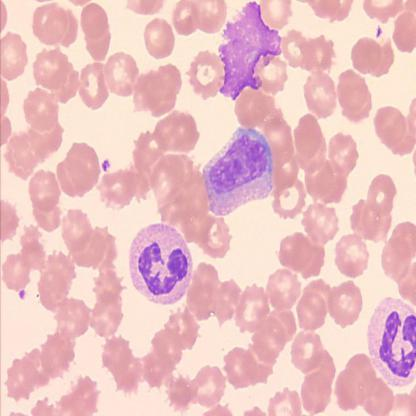Myelocyte: (202, 125, 275, 218), (128, 225, 193, 303)
